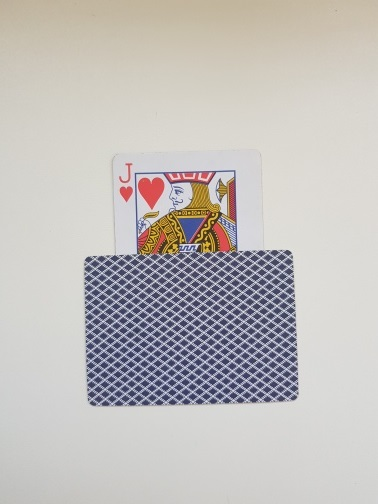jack: (111, 149, 264, 372)
